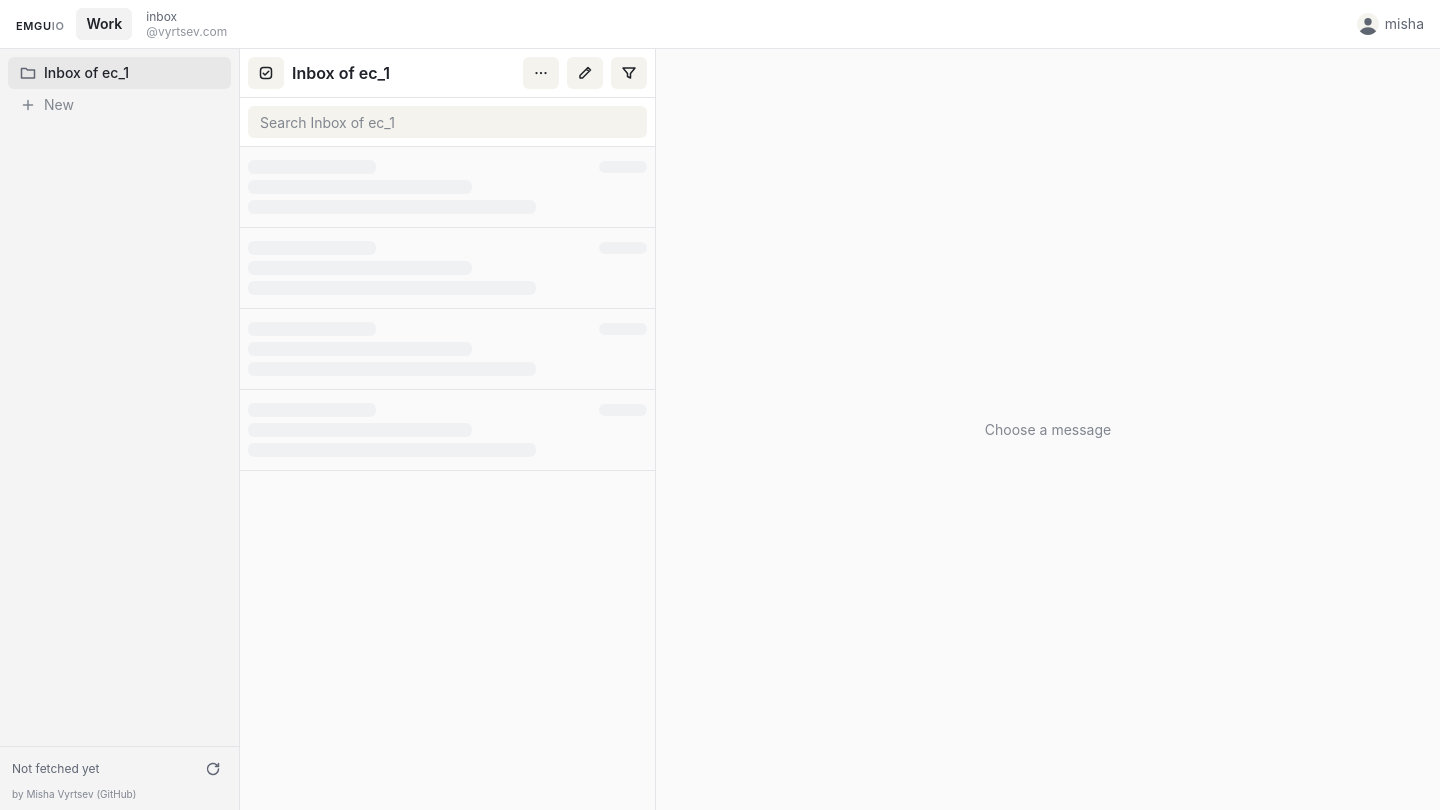
Test: the application › names an account without a name by its address on two lines
Expected: the navigation bar named "Mail accounts" is shown, [76,8,240,40]
Expected: the text "@vyrtsev.com" is shown, [146,24,230,39]
What coordinates should you click on to do the following:
click the button named "Mail account"
I would click on:
 (104, 24)
Its box is [76,8,132,40].
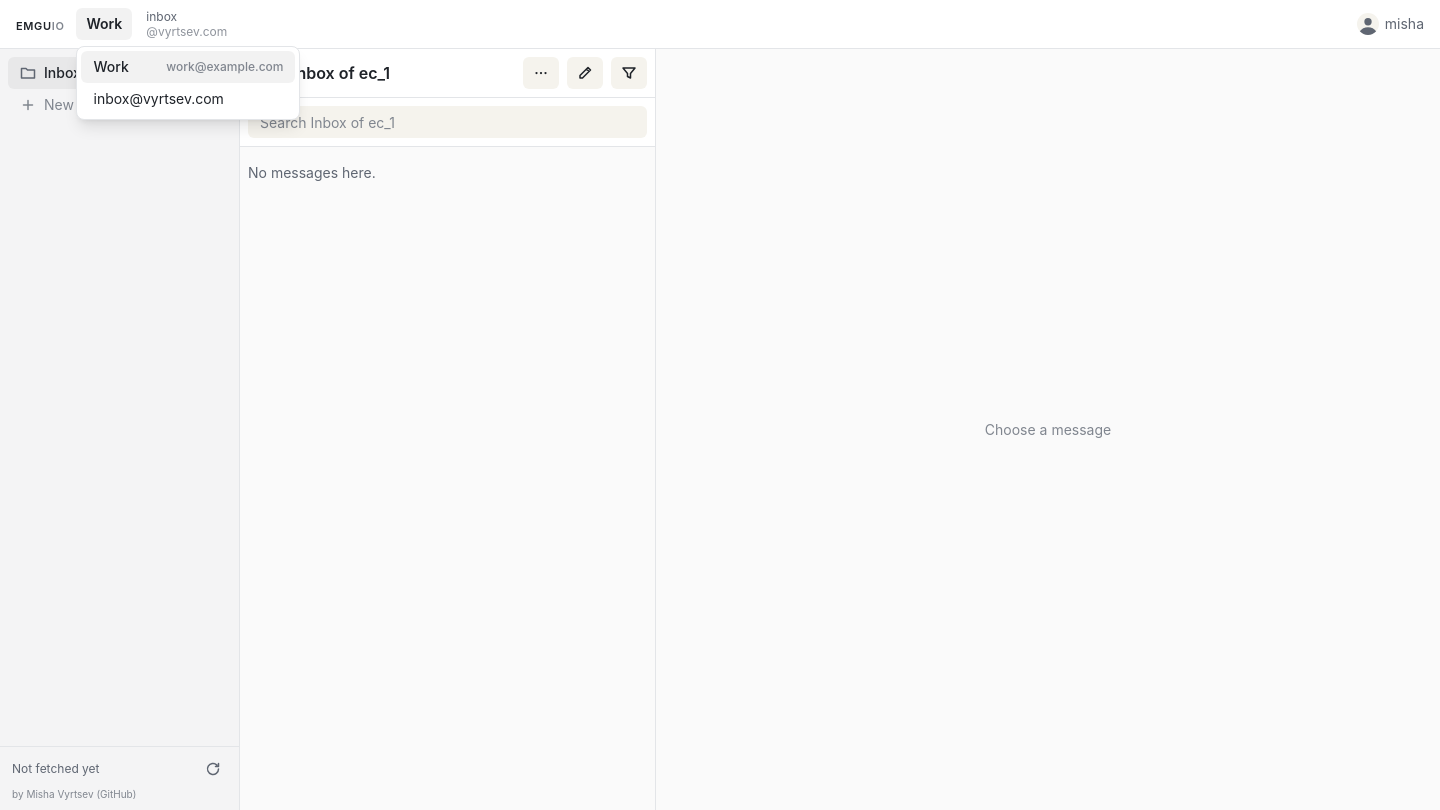
Result: the menu item "inbox@vyrtsev.com" is shown at [94,90,224,107]
